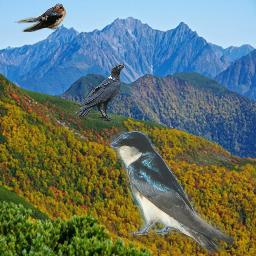Crow: (74, 63, 126, 123)
Swallow: (110, 131, 236, 253), (14, 3, 66, 32)
